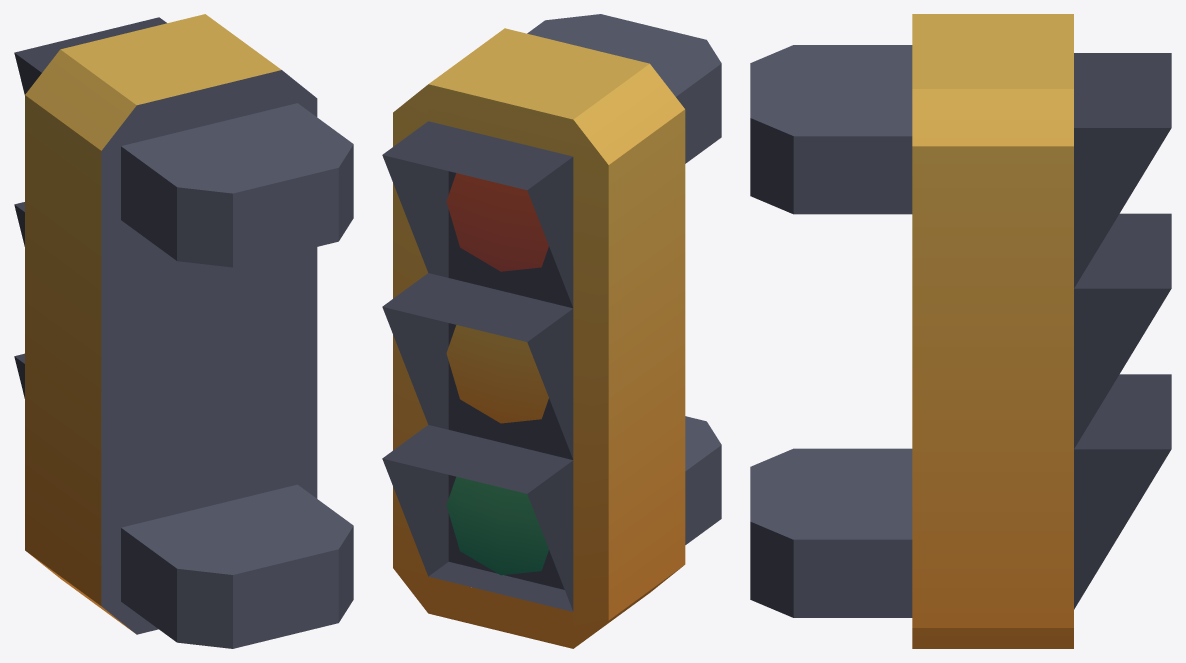
Rendered from traffic-light-object-vertical.glb.
The picture shows the model from 3 angles, left to right: view 1: azimuth 30°, elevation 25°; view 2: azimuth 150°, elevation 25°; view 3: azimuth 270°, elevation 25°; orthographic projection. The views are drawn at different scales.
Parts seen in each view (by area): view 1: geometry_0; view 2: geometry_0; view 3: geometry_0.
Boxes of the visible parts, x1,y1,x2,y2 form: geometry_0: [14, 14, 353, 648]; geometry_0: [382, 14, 721, 648]; geometry_0: [750, 14, 1171, 648].
Size of the model in its own units: 0.4606 by 1.08 by 0.7362.
